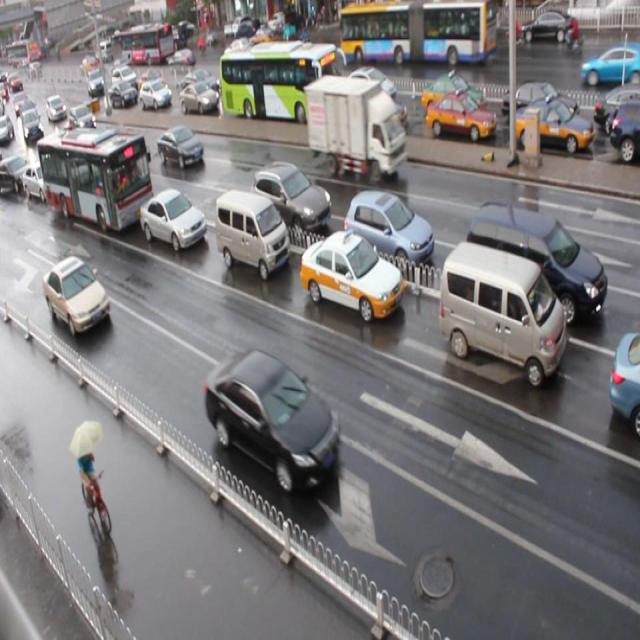bus: (305, 74, 408, 182)
car: (206, 347, 342, 497), (299, 228, 402, 322), (344, 194, 434, 277), (252, 162, 330, 235), (43, 255, 110, 338), (514, 99, 593, 158), (138, 187, 206, 252), (425, 92, 496, 143), (502, 82, 576, 128), (608, 331, 640, 435), (420, 76, 486, 121), (345, 86, 406, 133), (335, 66, 394, 111), (158, 124, 204, 170), (592, 92, 640, 134), (608, 99, 640, 160), (21, 158, 60, 203), (86, 133, 124, 175), (0, 153, 32, 192), (180, 83, 219, 114), (230, 69, 264, 103), (182, 68, 221, 97), (139, 80, 172, 112), (69, 105, 96, 136), (113, 65, 139, 94), (111, 81, 136, 110), (138, 69, 163, 92)
truck: (465, 198, 607, 332), (438, 240, 565, 388), (213, 187, 289, 280)
van: (37, 126, 154, 235), (216, 42, 339, 124)
